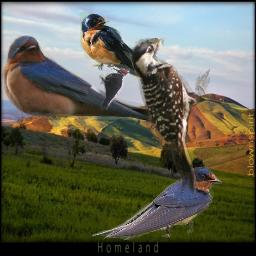Swallow: (1, 35, 186, 130), (92, 166, 222, 240), (80, 12, 177, 86)
Woodpecker: (131, 38, 210, 194), (99, 67, 130, 110)
